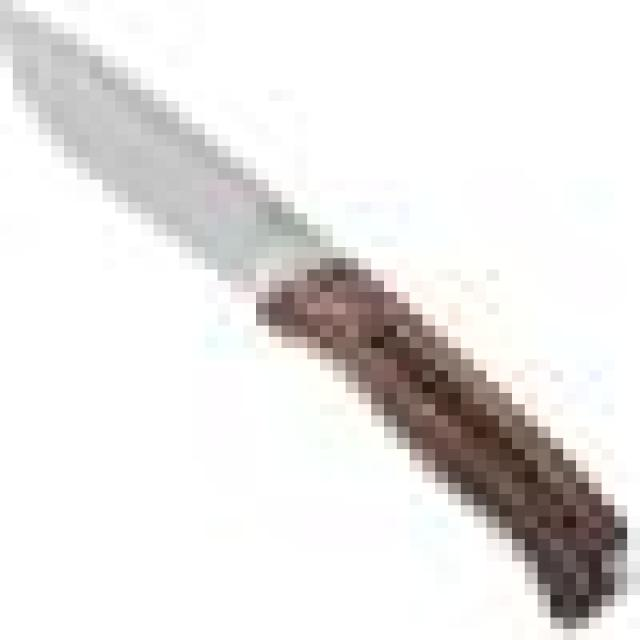knife: (1, 2, 637, 636)
